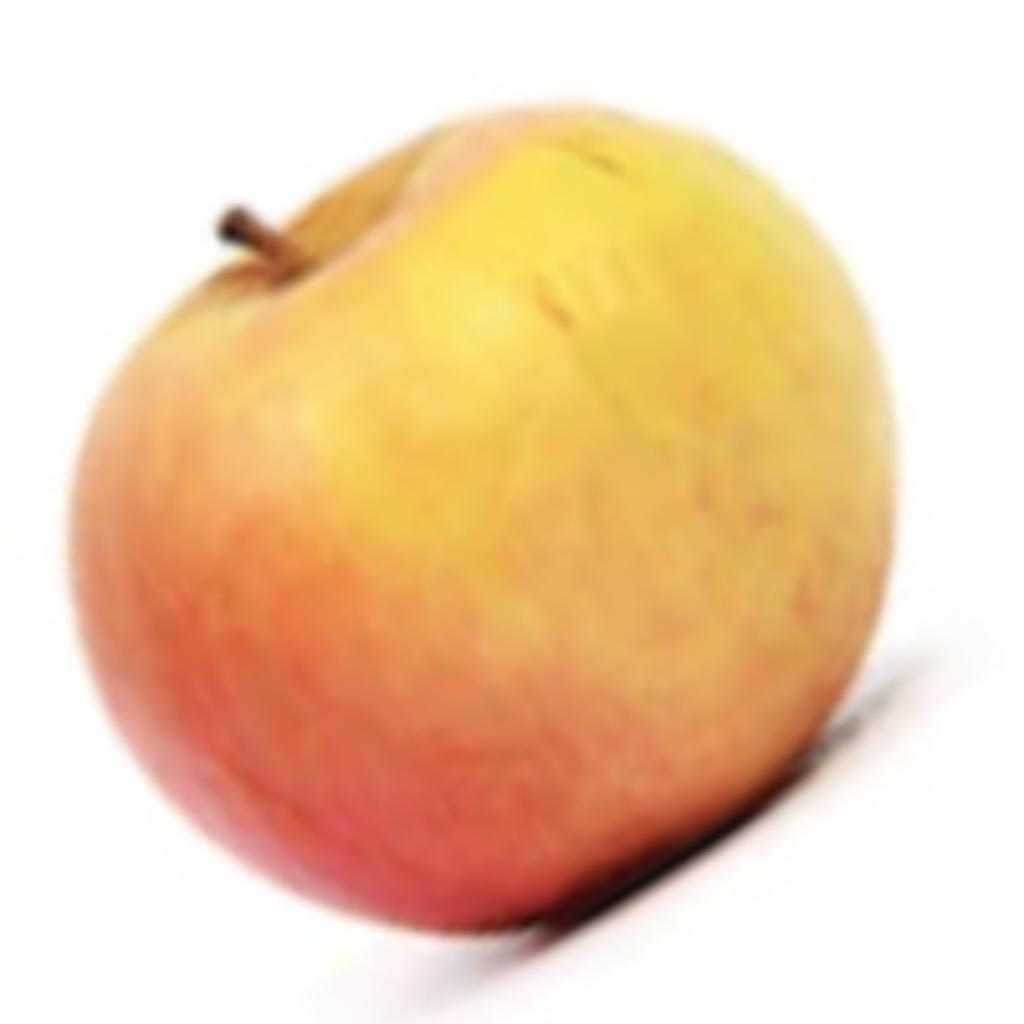apple: (51, 87, 973, 1019)
